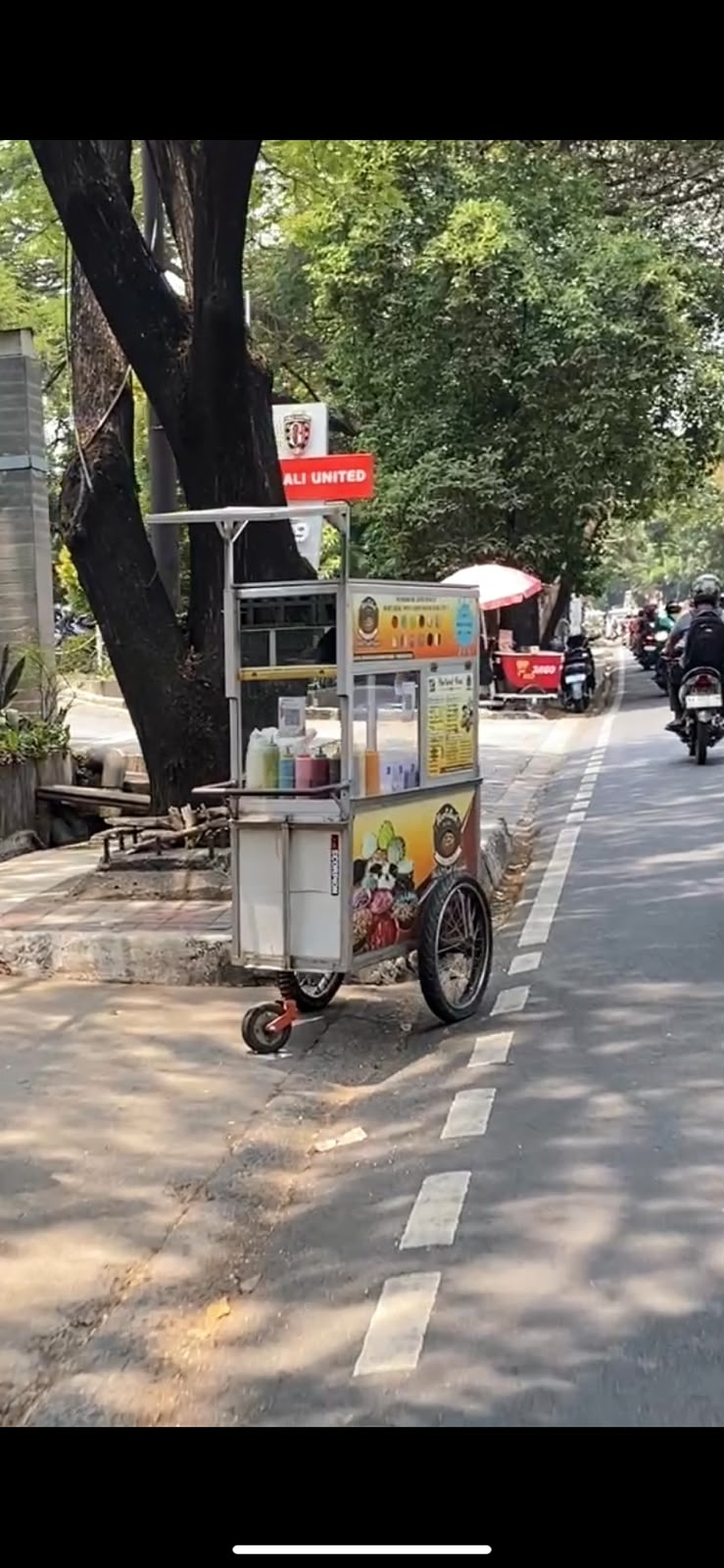gerobak: (179, 499, 492, 1051)
